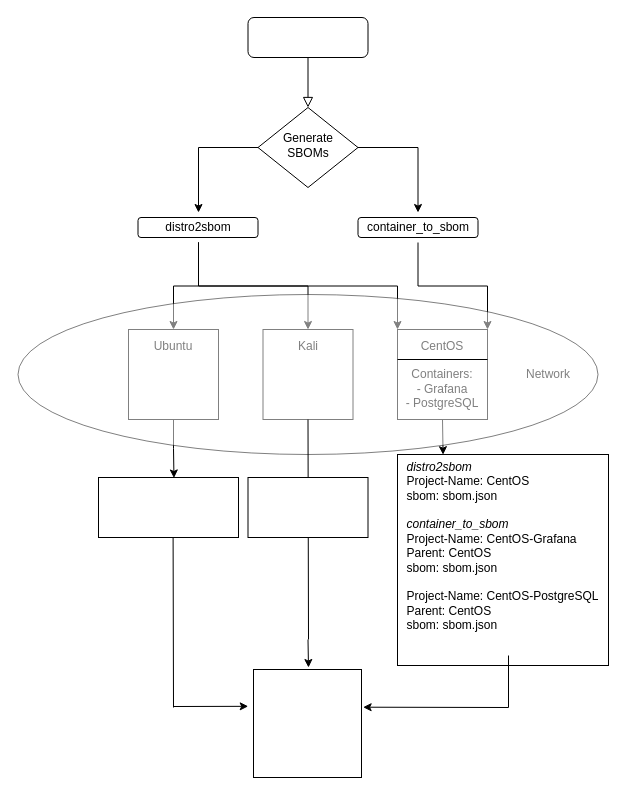
This 626x795 diagram has some shape labels left out. The box of each missing label's shape, as (x1, y1, x2, y2) in pixels:
Bolt: (247, 16, 368, 58)
Dependency-Track API: (252, 668, 362, 778)
distro2sbom Project-Name: Kali sbom: sbom.json: (247, 476, 368, 538)
distro2sbom Project-Name: Ubuntu sbom: sbom.json: (98, 476, 238, 538)
